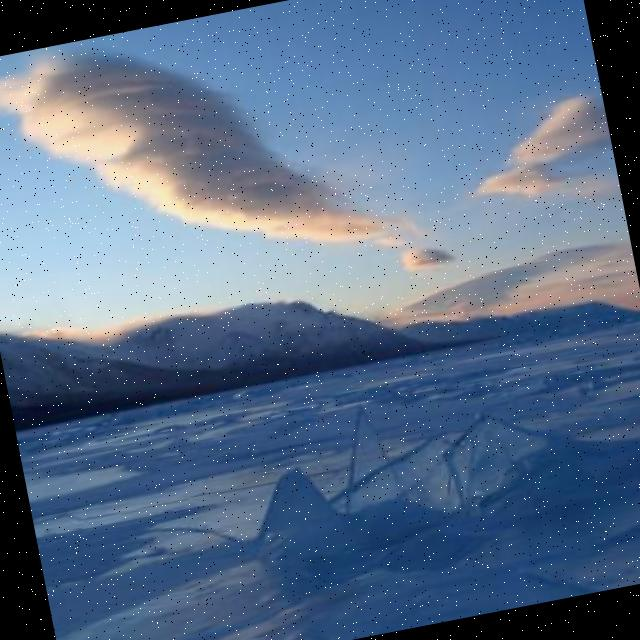St: (1, 1, 419, 326)
